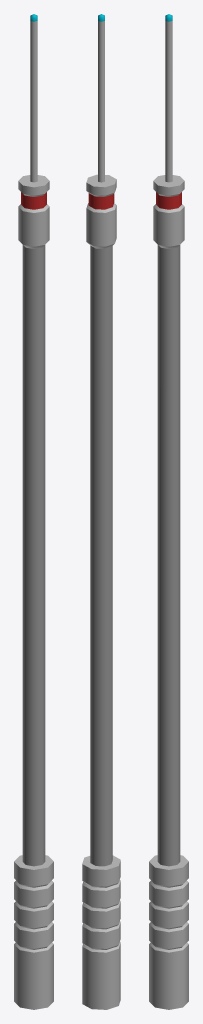
Rendered from antenna_009.fbx.
The picture shows the model from 3 angles, left to right: view 1: azimuth 90°, elevation 25°; view 2: azimuth 150°, elevation 25°; view 3: azimuth 270°, elevation 25°; orthographic projection.
Visible parts, largest first — view 1: antenna_009; view 2: antenna_009; view 3: antenna_009.
Boxes of the visible parts, left/top/right/bottom form: antenna_009: left=14, top=14, right=53, bottom=1009; antenna_009: left=82, top=14, right=120, bottom=1009; antenna_009: left=149, top=14, right=188, bottom=1009.
Bounding box in the file's own units: 121 × 121 × 3312.
